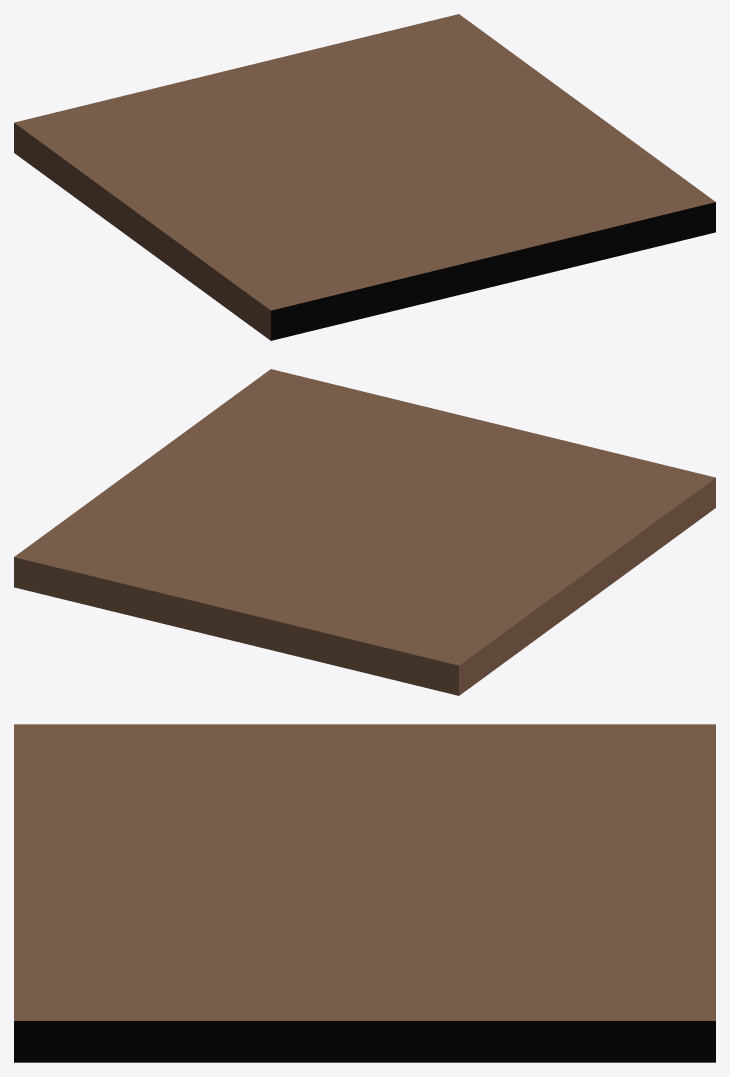
File: ceiling.glb
The picture shows the model from 3 angles, top to bottom: view 1: azimuth 30°, elevation 25°; view 2: azimuth 150°, elevation 25°; view 3: azimuth 270°, elevation 25°; orthographic projection. The views are drawn at different scales.
Visible parts, largest first — view 1: FloorMesh; view 2: FloorMesh; view 3: FloorMesh.
Part boxes in pixels (box(x1,y1,x2,y2)): FloorMesh: box(14, 14, 715, 340); FloorMesh: box(14, 369, 715, 695); FloorMesh: box(14, 724, 715, 1062).
Size of the model in its own units: 9.41 by 0.6119 by 9.41.
